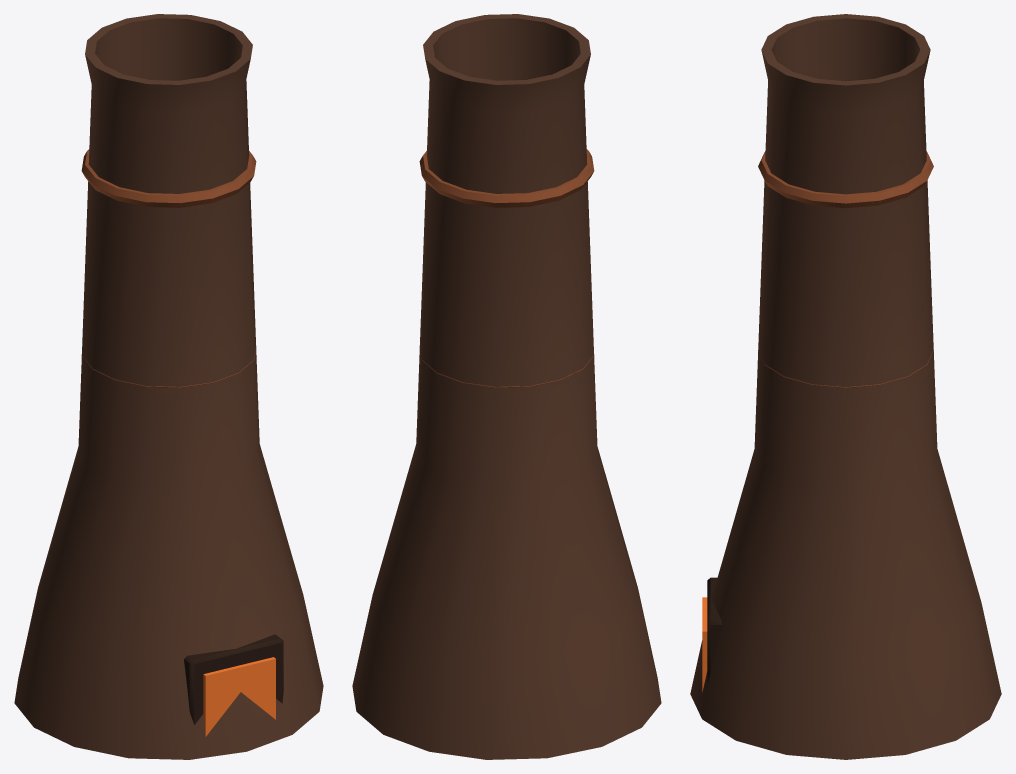
Rendered from furnace_stack.glb.
3 views of the same model, side by side, from view 1: azimuth 30°, elevation 25°; view 2: azimuth 150°, elevation 25°; view 3: azimuth 270°, elevation 25° (orthographic).
Parts seen in each view (by area): view 1: furnace_stack; view 2: furnace_stack; view 3: furnace_stack.
Part boxes in pixels (x1,y1,x2,y2): furnace_stack: [14, 14, 323, 759]; furnace_stack: [352, 14, 661, 759]; furnace_stack: [690, 14, 1001, 759].
Size of the model in its own units: 9.2 by 21 by 9.2.
